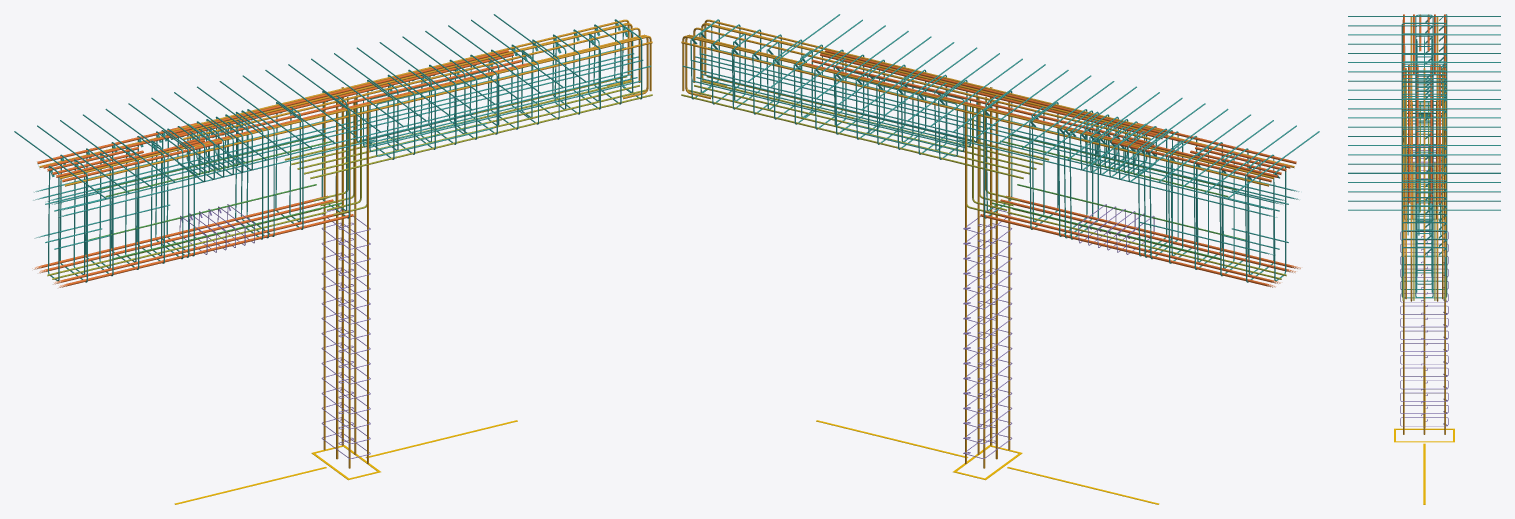
File: unterzug-441-vorortstahl.glb
The picture shows the model from 3 angles, left to right: view 1: azimuth 30°, elevation 25°; view 2: azimuth 150°, elevation 25°; view 3: azimuth 270°, elevation 25°; orthographic projection. The views are drawn at different scales.
Parts seen in each view (by area): view 1: Pos_29_2, Pos_53_geschaetzt_1, Pos_28_geschaetzt_3, Pos_28_geschaetzt_1, Pos_28_geschaetzt_2, Pos_33_geschaetzt_3, Pos_36_geschaetzt_1, Pos_33_geschaetzt_5, Pos_1_17, Pos_33_geschaetzt_4, Pos_33_geschaetzt_2, Pos_1_14 (+14 smaller); view 2: Pos_29_1, Pos_53_geschaetzt_2, Pos_28_geschaetzt_2, Pos_28_geschaetzt_1, Pos_28_geschaetzt_3, Pos_33_geschaetzt_1, Pos_36_geschaetzt_2, Pos_33_geschaetzt_2, Pos_33_geschaetzt_5, Pos_33_geschaetzt_4, Pos_1_14, Pos_36_geschaetzt_3 (+13 smaller); view 3: Pos_53_geschaetzt_1, Pos_53_geschaetzt_2, Pos_28_geschaetzt_1, Pos_29_2, Pos_28_geschaetzt_2, Pos_28_geschaetzt_3, Pos_1_18, Pos_1_17, Pos_1_16, Pos_29_1, Pos_36_geschaetzt_1, Pos_36_geschaetzt_2 (+23 smaller).
Boxes of the visible parts, x1,y1,x2,y2 form: Pos_29_2: (64, 41, 652, 186); Pos_53_geschaetzt_1: (44, 23, 632, 165); Pos_28_geschaetzt_3: (194, 35, 651, 147); Pos_28_geschaetzt_1: (183, 27, 640, 139); Pos_28_geschaetzt_2: (172, 19, 629, 131); Pos_33_geschaetzt_3: (60, 65, 651, 210); Pos_36_geschaetzt_1: (166, 49, 508, 135); Pos_33_geschaetzt_5: (47, 56, 638, 201); Pos_1_17: (354, 96, 356, 454); Pos_33_geschaetzt_4: (52, 59, 643, 204); Pos_33_geschaetzt_2: (42, 53, 634, 198); Pos_1_14: (336, 102, 338, 459); Pos_29_1: (681, 41, 1269, 186); Pos_53_geschaetzt_2: (701, 23, 1289, 165); Pos_28_geschaetzt_2: (682, 35, 1139, 147); Pos_28_geschaetzt_1: (693, 27, 1150, 139); Pos_28_geschaetzt_3: (704, 19, 1161, 131); Pos_33_geschaetzt_1: (682, 65, 1272, 210); Pos_36_geschaetzt_2: (825, 49, 1167, 135); Pos_33_geschaetzt_2: (690, 60, 1282, 204); Pos_33_geschaetzt_5: (695, 56, 1284, 200); Pos_33_geschaetzt_4: (701, 53, 1290, 197); Pos_1_14: (995, 102, 997, 459); Pos_36_geschaetzt_3: (811, 59, 1154, 144); Pos_53_geschaetzt_1: (1436, 17, 1438, 301); Pos_53_geschaetzt_2: (1410, 17, 1412, 301); Pos_28_geschaetzt_1: (1423, 68, 1425, 299); Pos_29_2: (1402, 20, 1404, 256); Pos_28_geschaetzt_2: (1442, 68, 1443, 299); Pos_28_geschaetzt_3: (1405, 68, 1406, 299); Pos_1_18: (1403, 138, 1404, 434); Pos_1_17: (1423, 300, 1425, 434); Pos_1_16: (1444, 138, 1445, 434); Pos_29_1: (1444, 20, 1446, 256); Pos_36_geschaetzt_1: (1438, 65, 1440, 203); Pos_36_geschaetzt_2: (1408, 65, 1410, 203).
Size of the model in its own units: 5.23 by 3.08 by 1.4.
